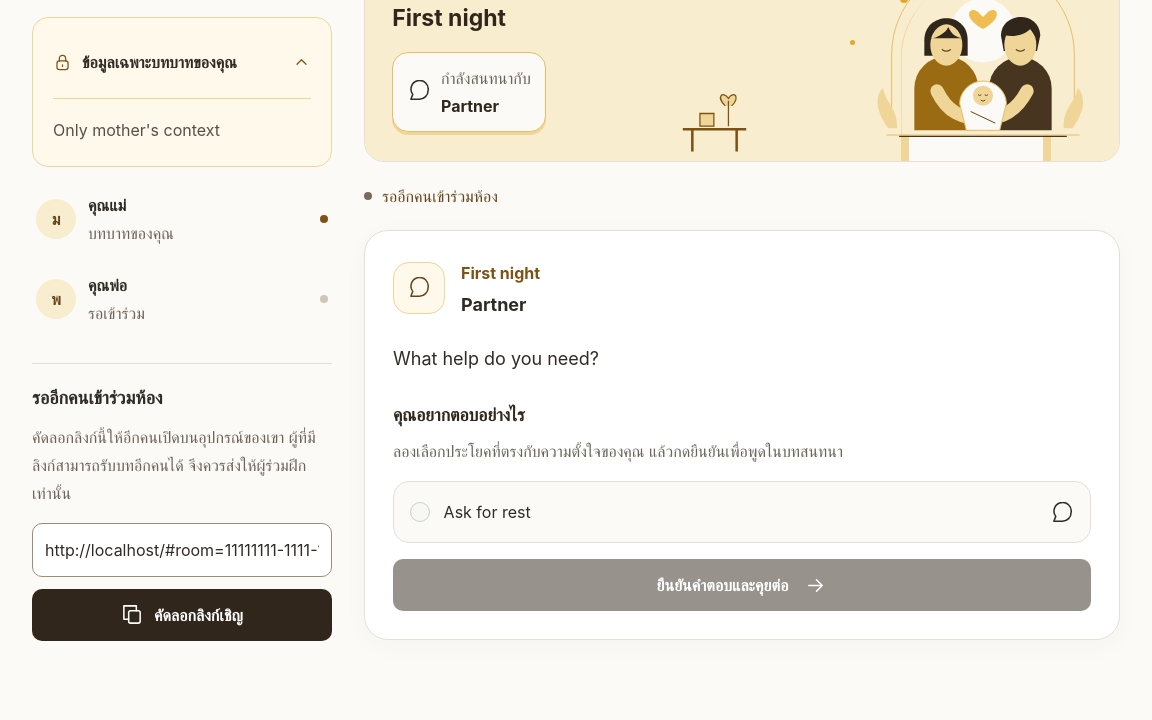
copies an invitation or explains manual copying when clipboard fails: true
(page scrolled)
Click the button "คัดลอกลิงก์เชิญ" at [182, 614], box x1=32 y1=588 x2=332 y2=640
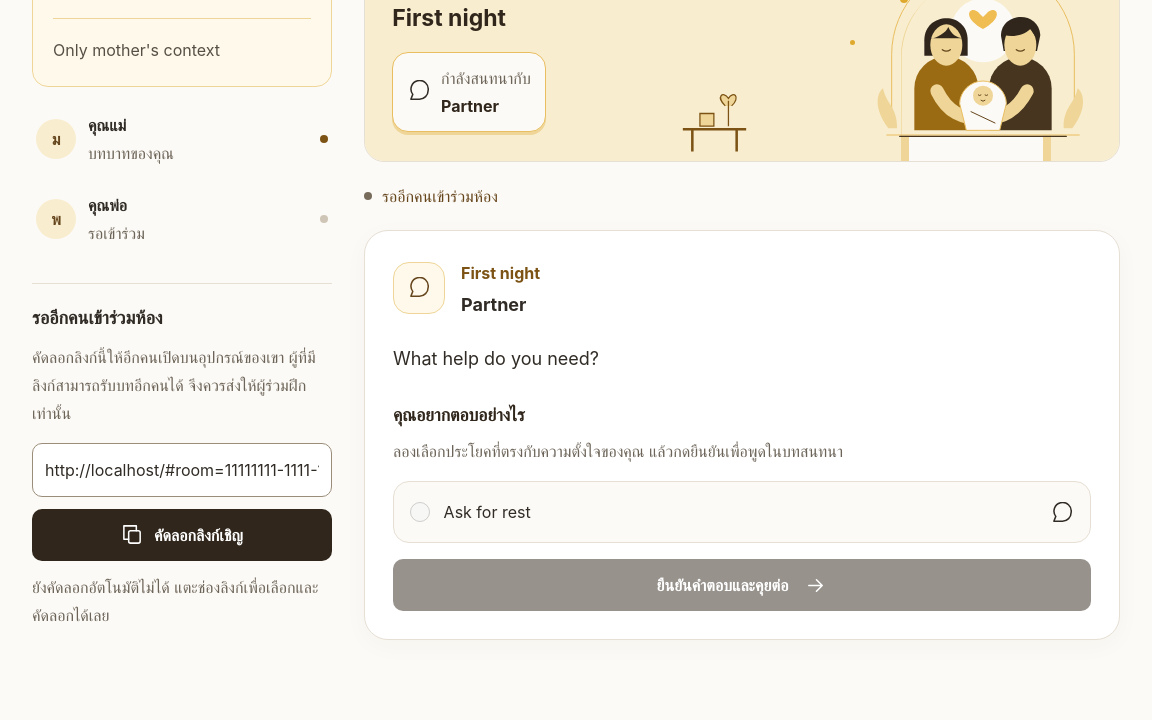
Expected: the text "ยังคัดลอกอัตโนมัติไม่ได้ แตะช่องลิงก์เพื่อเลือกและคัดลอกได้เลย" is shown, x1=32 y1=572 x2=332 y2=628
